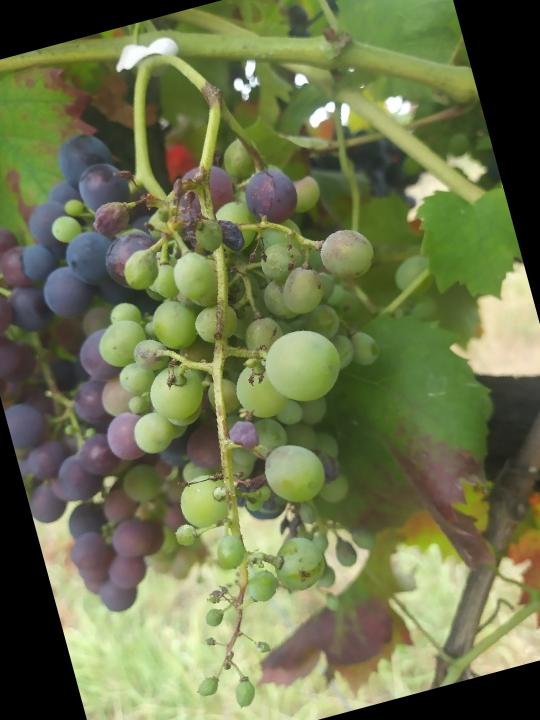grape: (55, 123, 484, 720)
